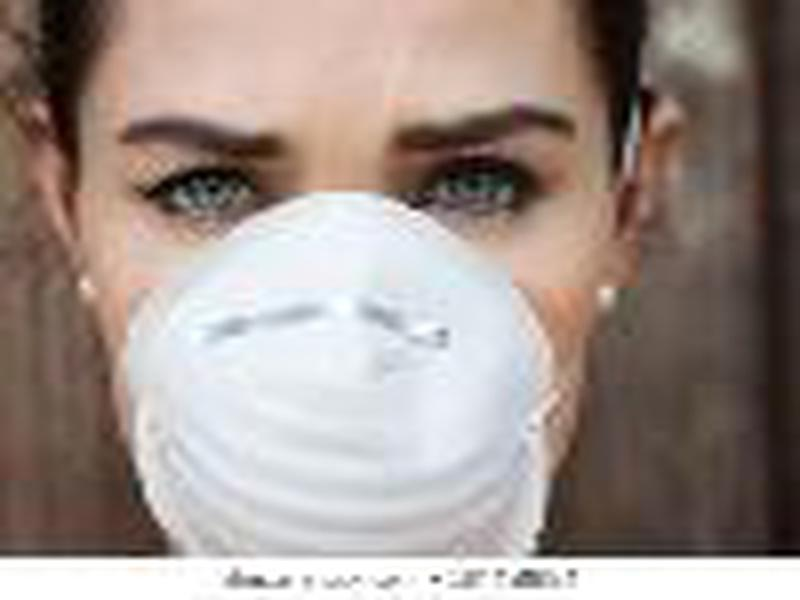with_mask: (59, 1, 636, 557)
